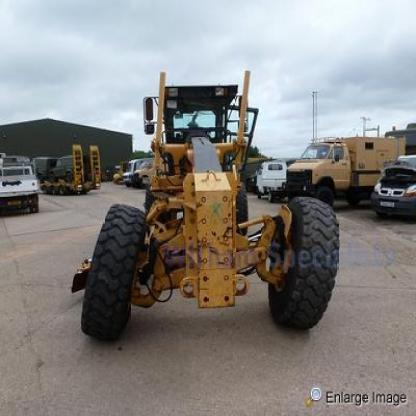bull_dozer/loader/grader: (54, 50, 356, 354)
